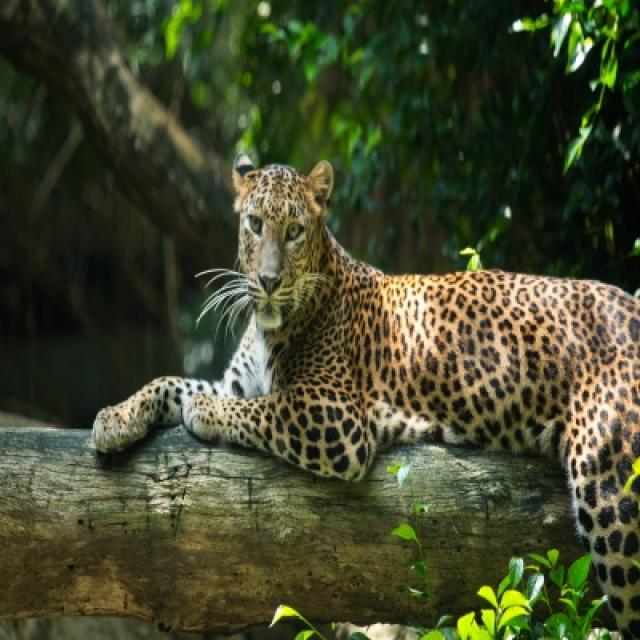Cheetah: (93, 155, 638, 613)
